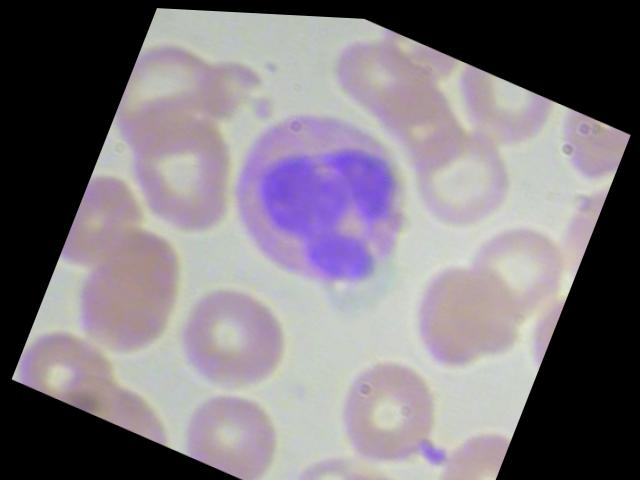Red Blood Cells: (53, 200, 198, 370), (114, 76, 259, 246), (386, 238, 527, 383), (387, 96, 528, 241), (163, 265, 304, 409), (438, 190, 578, 335), (313, 337, 455, 479), (167, 364, 302, 479), (11, 310, 135, 421), (437, 54, 560, 156), (540, 97, 630, 184), (316, 456, 441, 479)
White Blood Cells: (204, 73, 440, 318)
